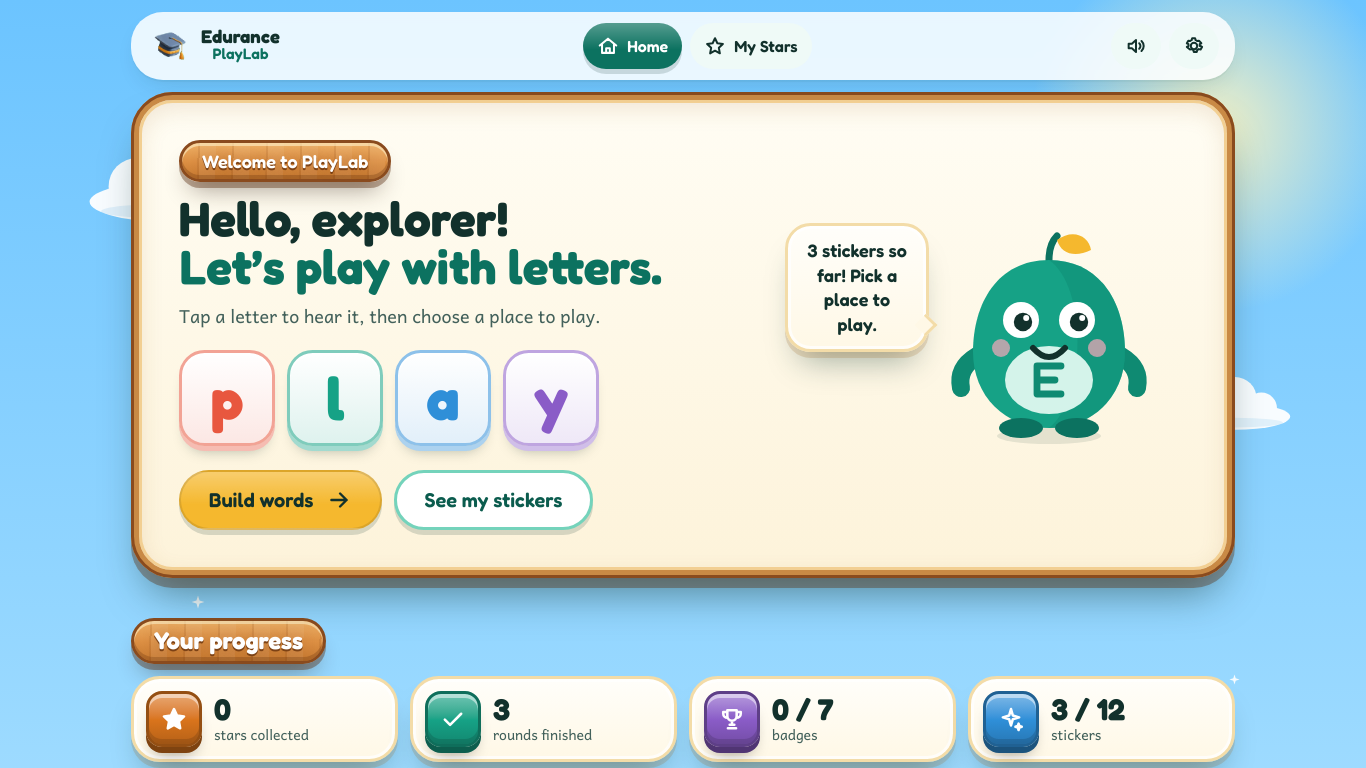
Test: sticker book › a locked slot says which finished round unlocks it
Click the button "My Stars". click: (751, 46)
box: 690,23 -> 812,69
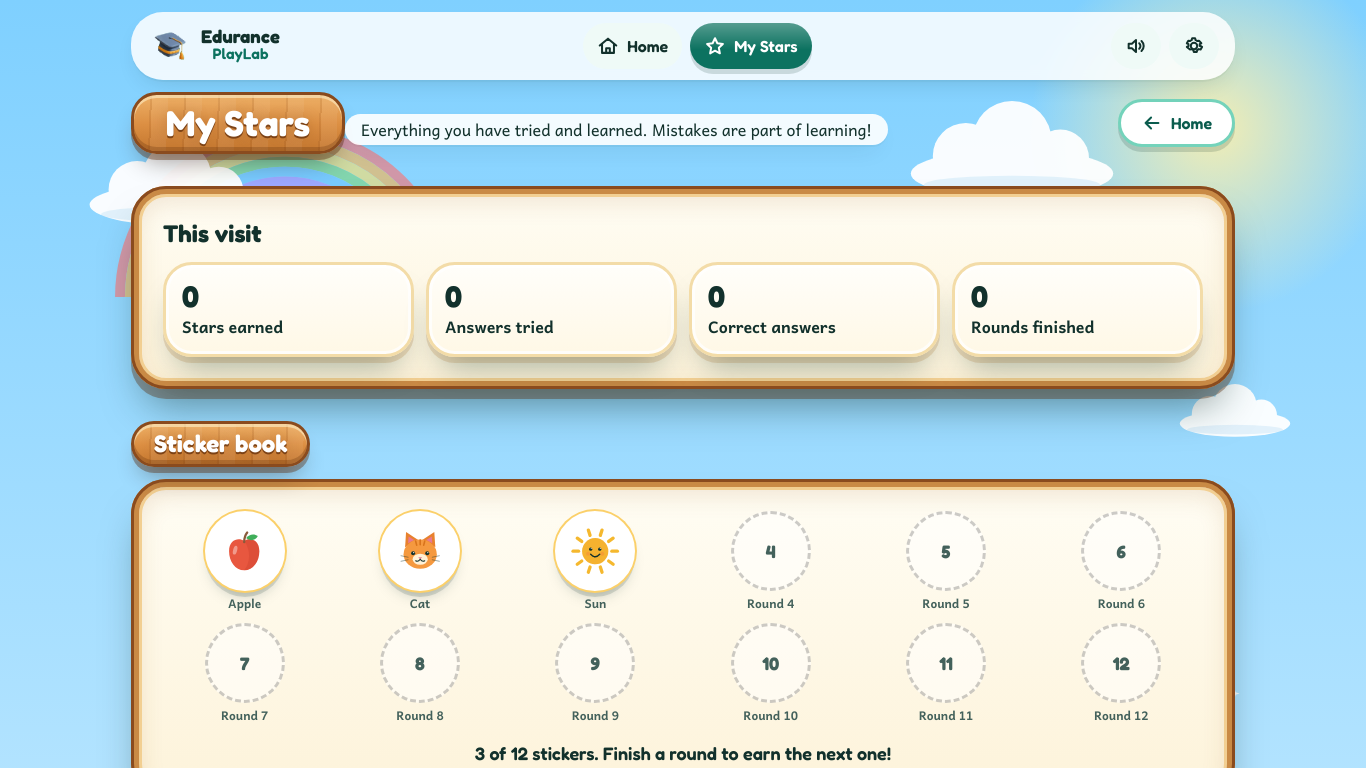
Expected: the text "Sun" is shown, 584,595 -> 606,611
Expected: the text "Round 4" is shown, 747,595 -> 794,611
Expected: the text "Round 12" is shown, 1094,707 -> 1149,723
